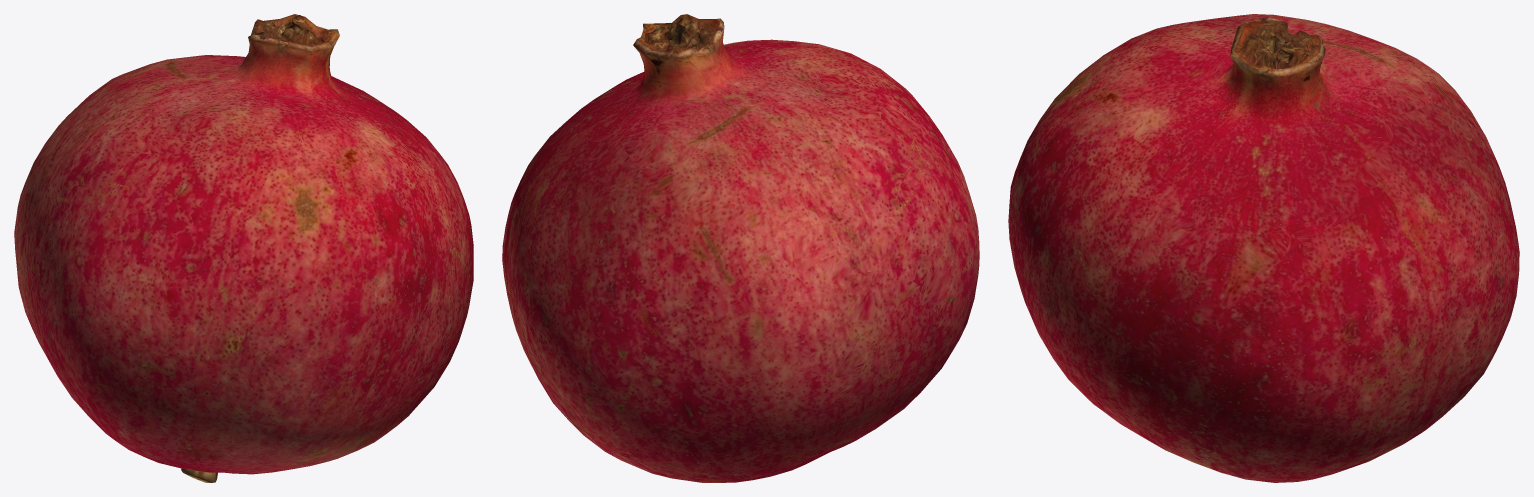
Rendered from Granada-Goral.glb.
3 renders of one model, left to right at view 1: azimuth 30°, elevation 25°; view 2: azimuth 150°, elevation 25°; view 3: azimuth 270°, elevation 25°, orthographic. The views are drawn at different scales.
Visible parts, largest first — view 1: Pomegranate_2; view 2: Pomegranate_2; view 3: Pomegranate_2.
Boxes of the visible parts, x1,y1,x2,y2 form: Pomegranate_2: (14,14,473,482); Pomegranate_2: (502,14,979,482); Pomegranate_2: (1008,14,1519,482).
Bounding box in the file's own units: 0.9194 × 0.906 × 0.9546.
Materials: 1 (1 with a texture image).
